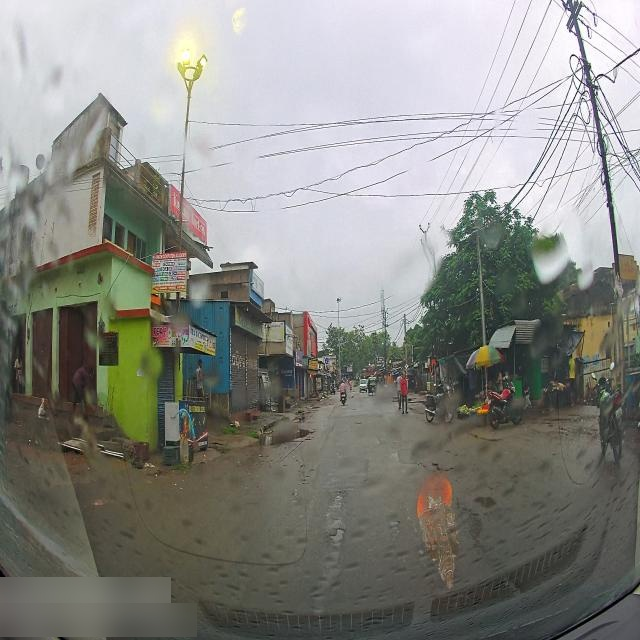pothole: (328, 525, 348, 546)
